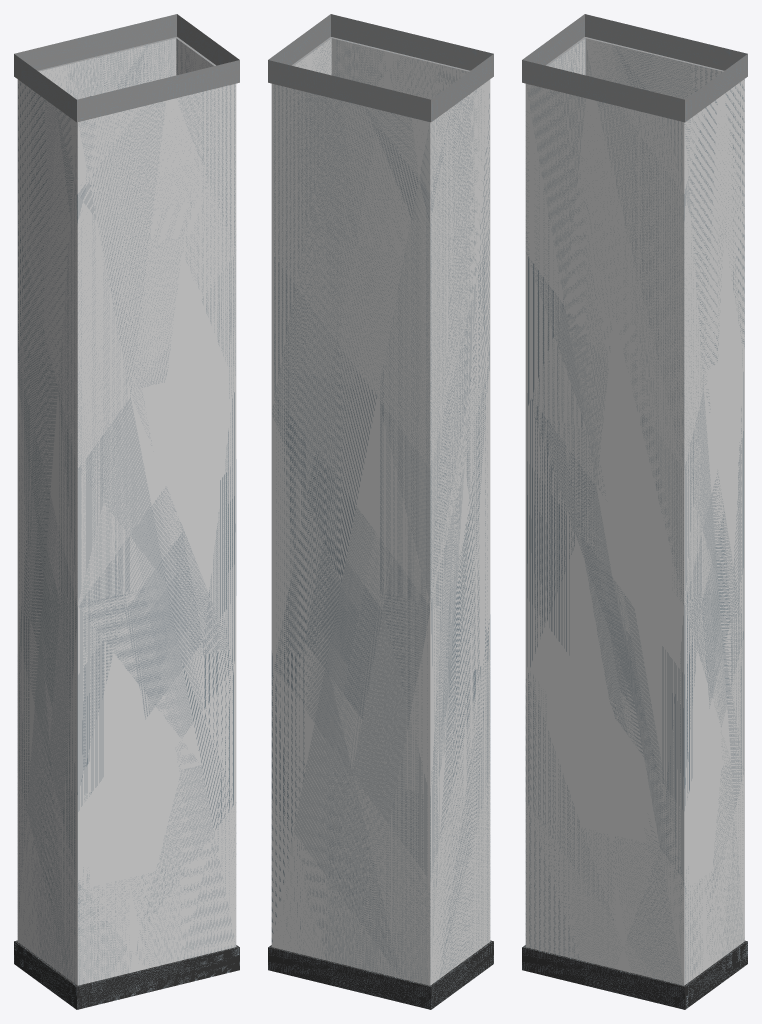
The model's file is Column_ds_plinth_075x050x4.dae.
3 views of the same model, side by side, from view 1: azimuth 30°, elevation 25°; view 2: azimuth 150°, elevation 25°; view 3: azimuth 330°, elevation 25° (orthographic).
Parts seen in each view (by area): view 1: group_0 (×3); view 2: group_0 (×3); view 3: group_0 (×3).
Boxes of the visible parts, x1,y1,x2,y2 form: group_0 (×3): (14,14,239,1009); group_0 (×3): (268,14,493,1009); group_0 (×3): (522,14,747,1009).
Bounding box in the file's own units: 29.53 × 19.69 × 157.
